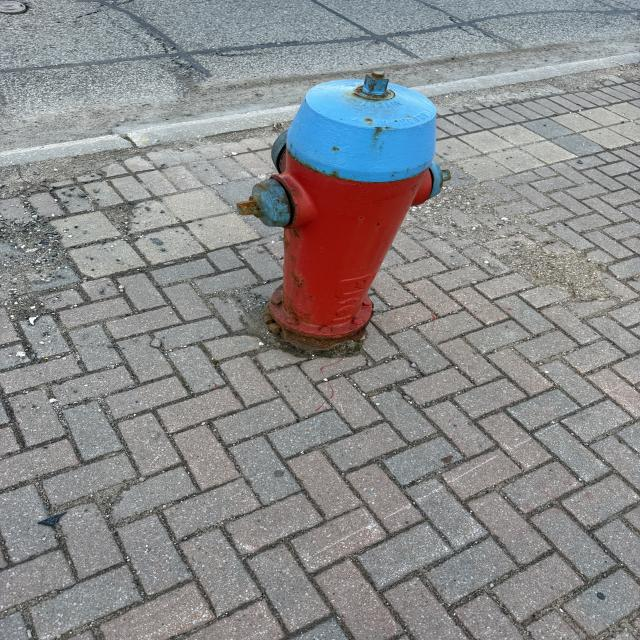Fire hydrant: (235, 70, 453, 352)
